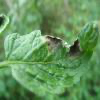Tomato leaf late blight: (4, 26, 97, 97)
